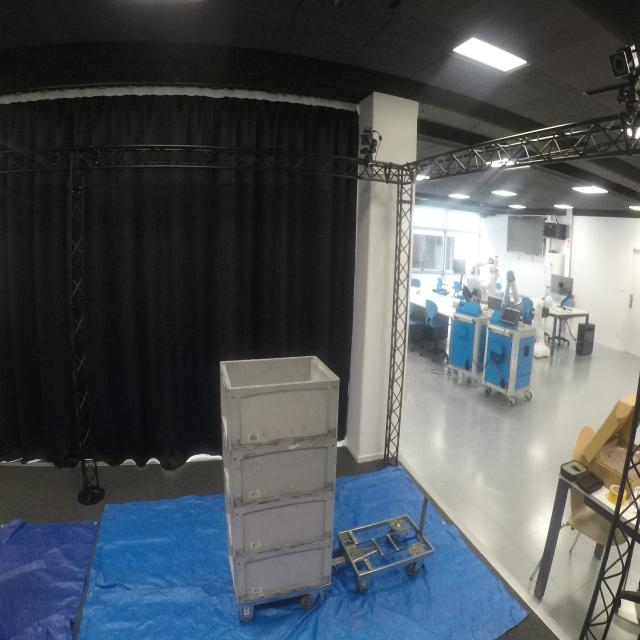Box4G: (214, 350, 343, 454), (219, 433, 339, 509), (221, 486, 336, 559), (226, 536, 337, 608)
